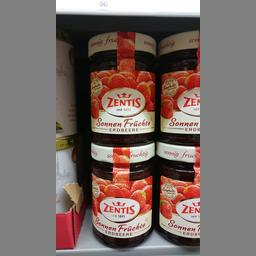jam: (86, 30, 158, 145), (86, 141, 156, 248), (152, 140, 199, 244), (156, 28, 198, 142)
